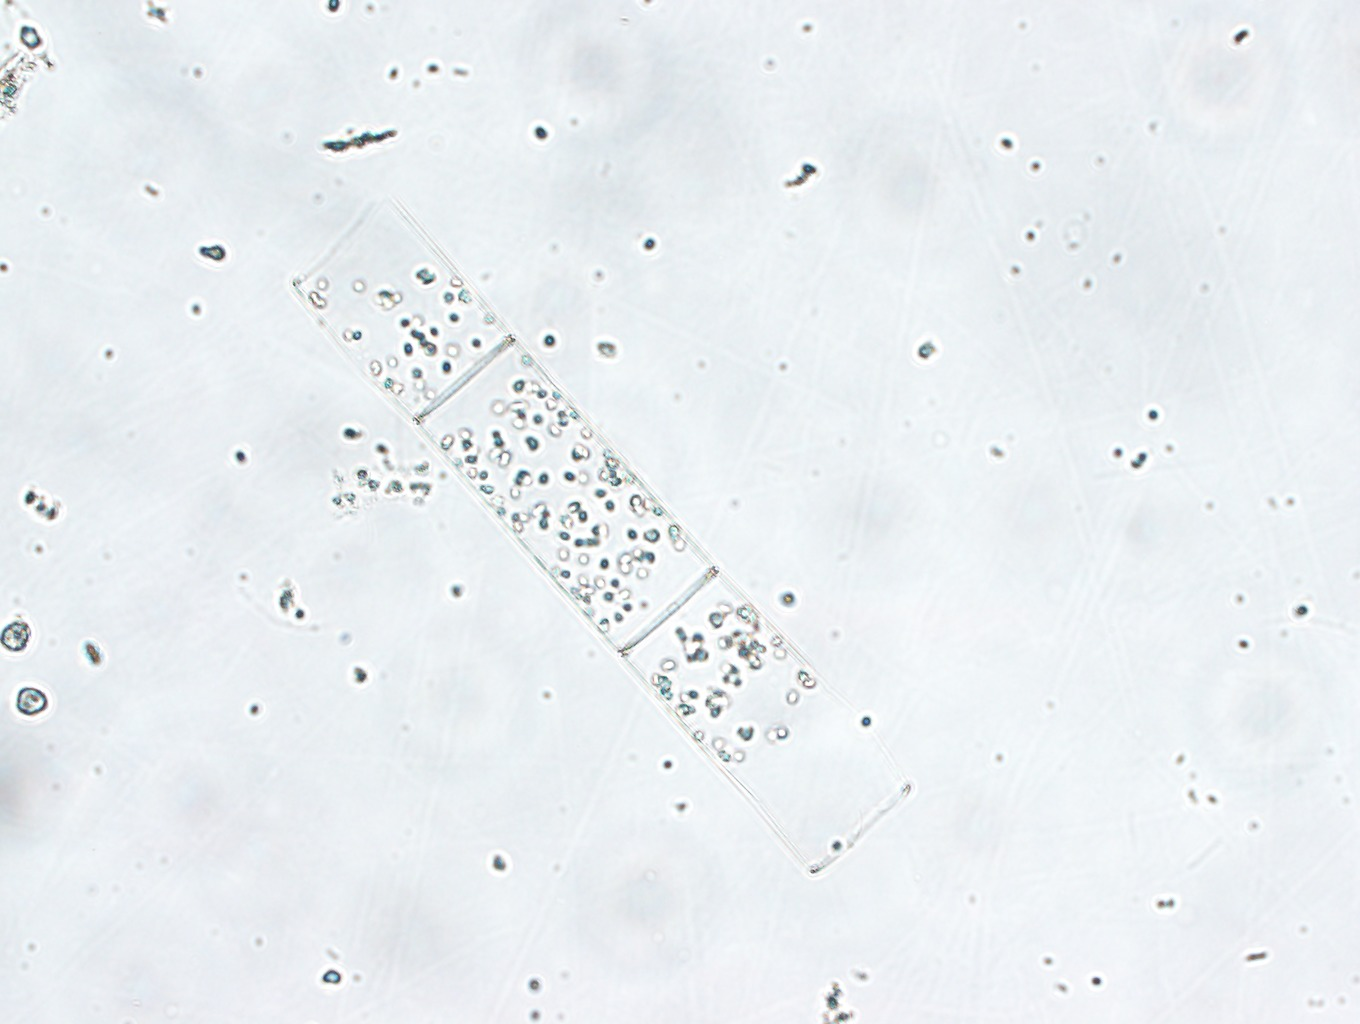guinardia flaccida: (272, 182, 922, 892)
